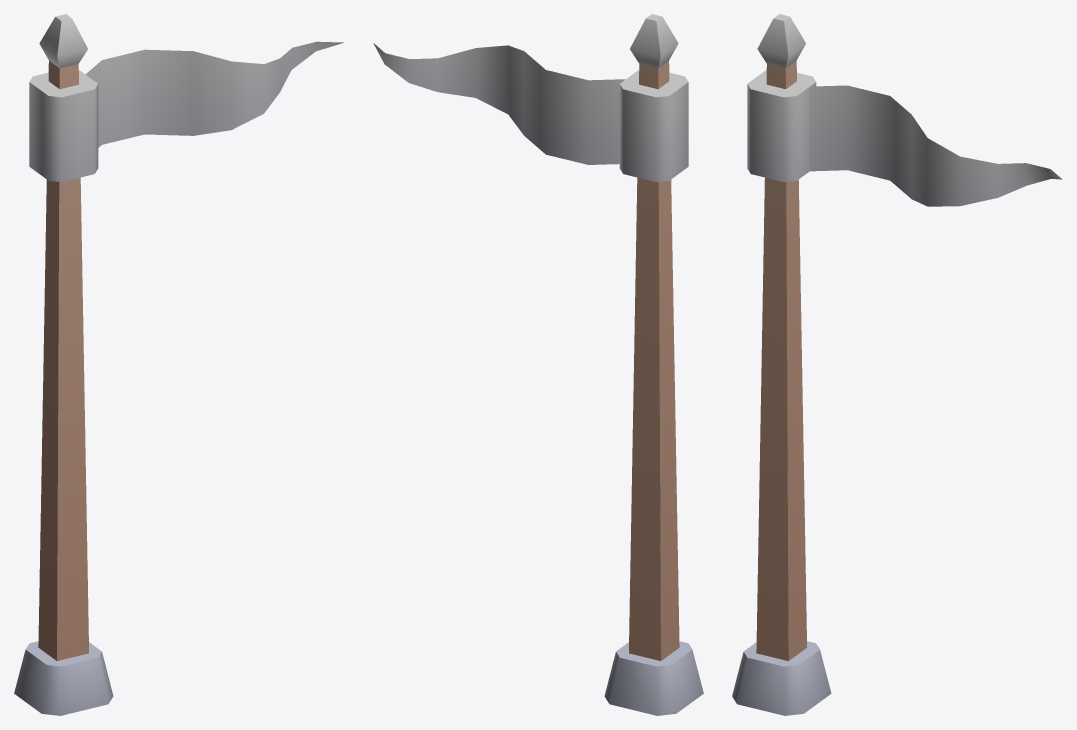
Rendered from flag-high-pennant.glb.
3 views of the same model, side by side, from view 1: azimuth 30°, elevation 25°; view 2: azimuth 150°, elevation 25°; view 3: azimuth 330°, elevation 25° (orthographic).
Parts seen in each view (by area): view 1: flag-high-pennant; view 2: flag-high-pennant; view 3: flag-high-pennant.
Part boxes in pixels (x1,y1,x2,y2): flag-high-pennant: (14,14,343,715); flag-high-pennant: (373,14,703,715); flag-high-pennant: (732,14,1062,715).
Size of the model in its own units: 1.76 by 3.6 by 0.3989.
